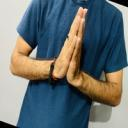hand: (55, 7, 83, 79), (67, 9, 89, 87)
